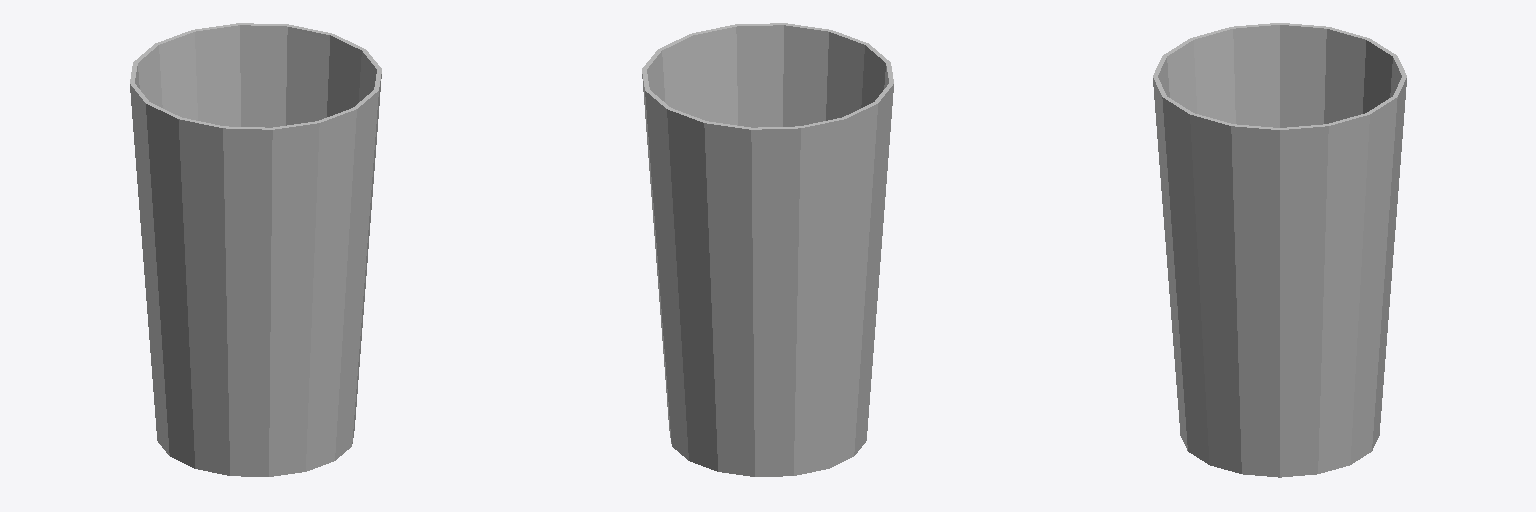
The model's file is glass_3.obj.
3 renders of one model, left to right at view 1: azimuth 30°, elevation 25°; view 2: azimuth 150°, elevation 25°; view 3: azimuth 270°, elevation 25°, orthographic.
Parts seen in each view (by area): view 1: glass_3; view 2: glass_3; view 3: glass_3.
Boxes of the visible parts, x1,y1,x2,y2 form: glass_3: [130, 23, 381, 476]; glass_3: [642, 23, 893, 476]; glass_3: [1153, 23, 1406, 477].
Size of the model in its own units: 6.46 by 10.05 by 6.46.